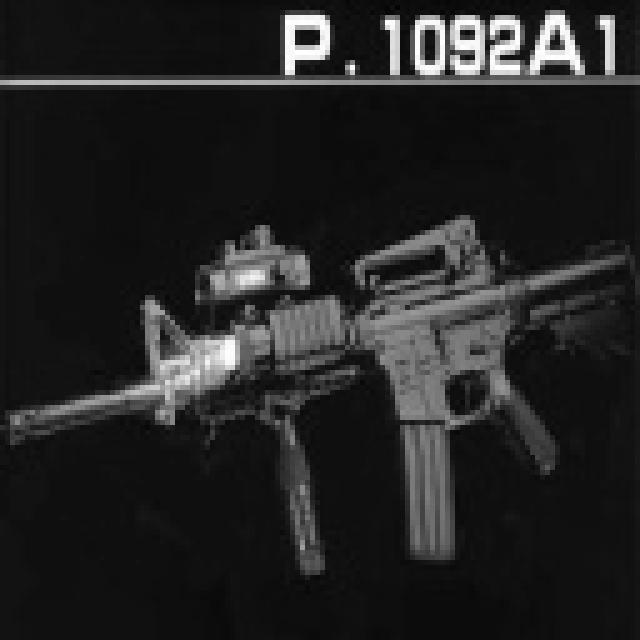Rifle: (0, 148, 640, 596)
